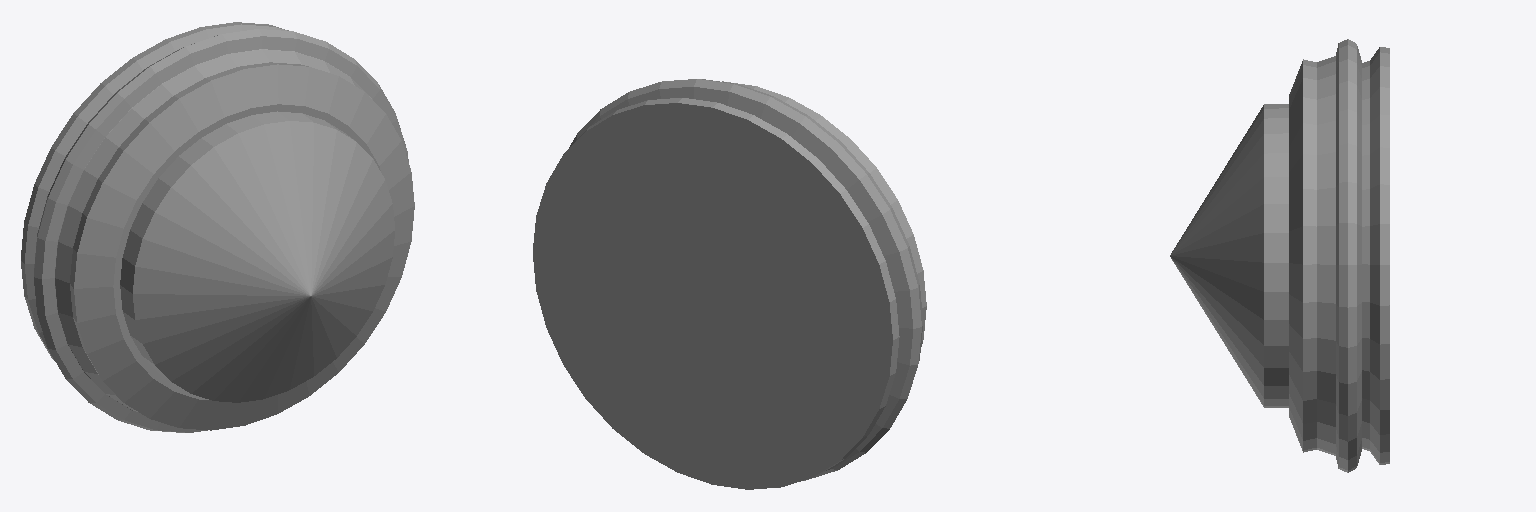
The model's file is Car3.obj.
3 views of the same model, side by side, from view 1: azimuth 30°, elevation 25°; view 2: azimuth 150°, elevation 25°; view 3: azimuth 270°, elevation 25° (orthographic).
Parts seen in each view (by area): view 1: TopCylinder002; view 2: TopCylinder002; view 3: TopCylinder002.
Boxes of the visible parts, x1=… form: TopCylinder002: x1=21, y1=22, x2=414, y2=432; TopCylinder002: x1=533, y1=79, x2=926, y2=489; TopCylinder002: x1=1170, y1=39, x2=1389, y2=472.
Bounding box in the file's own units: 2.05 × 2.05 × 1.04.